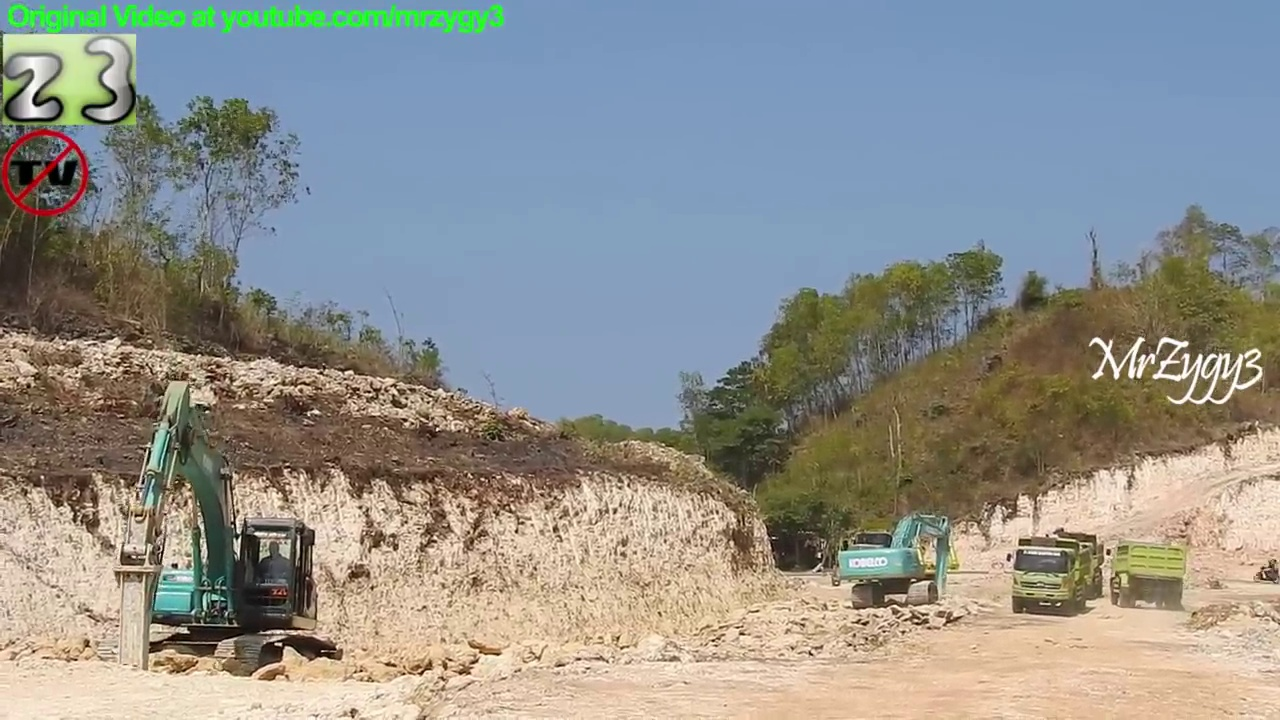excavator: (829, 512, 958, 610)
excavator breaker: (86, 375, 346, 685)
truck: (1003, 536, 1096, 619), (1020, 528, 1106, 609), (1103, 536, 1189, 617)
